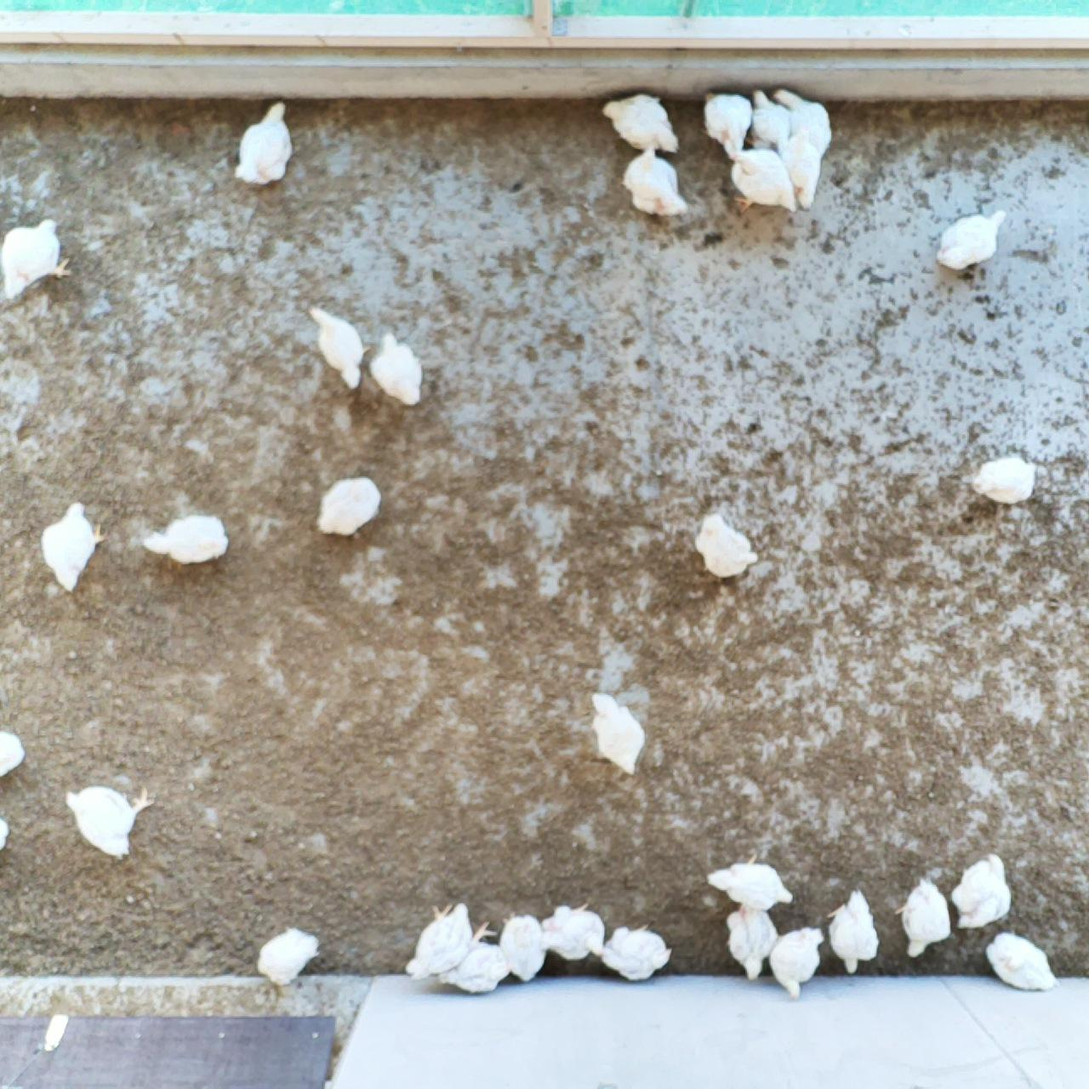chicken: (406, 898, 501, 984), (66, 780, 154, 860), (37, 499, 107, 593), (0, 216, 72, 300), (234, 98, 298, 188), (706, 852, 797, 914), (722, 142, 797, 217), (304, 300, 365, 390), (949, 851, 1015, 933), (619, 141, 688, 219), (599, 88, 677, 156), (983, 928, 1059, 996), (435, 929, 511, 997), (897, 876, 956, 961), (766, 925, 829, 1004), (934, 207, 1010, 272), (142, 511, 229, 567), (826, 884, 879, 974), (595, 922, 673, 983), (585, 692, 641, 775), (696, 509, 759, 580), (727, 901, 782, 982), (315, 477, 382, 543), (369, 331, 426, 407), (775, 86, 833, 160), (539, 897, 604, 962), (778, 125, 827, 210), (257, 926, 321, 990), (745, 85, 797, 158), (701, 88, 753, 160), (500, 909, 548, 982), (973, 455, 1038, 505), (0, 723, 26, 785), (0, 813, 14, 853)
